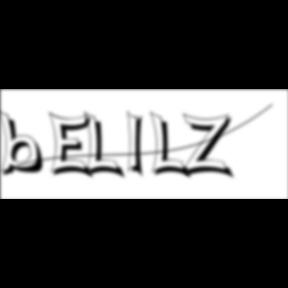E: (48, 110, 97, 182)
L: (84, 110, 128, 182), (150, 110, 194, 182)
Z: (182, 112, 237, 181)
b: (0, 109, 50, 179)
l: (128, 108, 150, 182)
